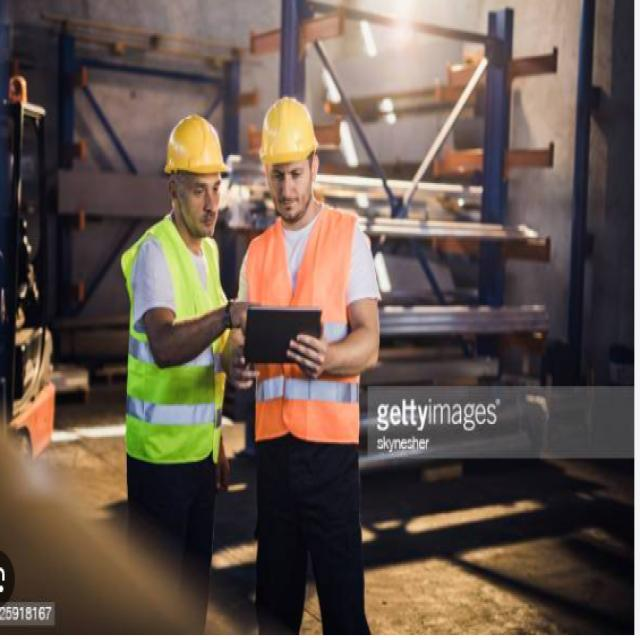hard_hat: (258, 93, 321, 233), (161, 114, 228, 236)
vest: (225, 202, 373, 454), (114, 213, 230, 471)
